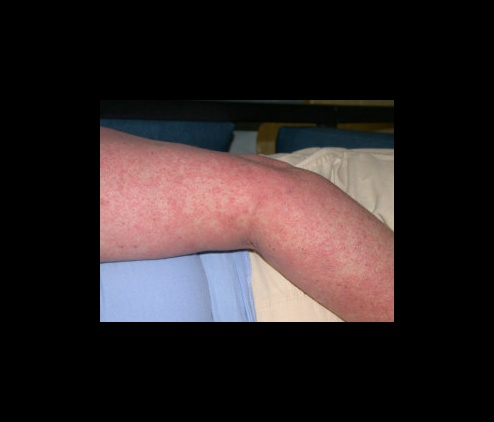SJS-TEN: (70, 116, 424, 335)
